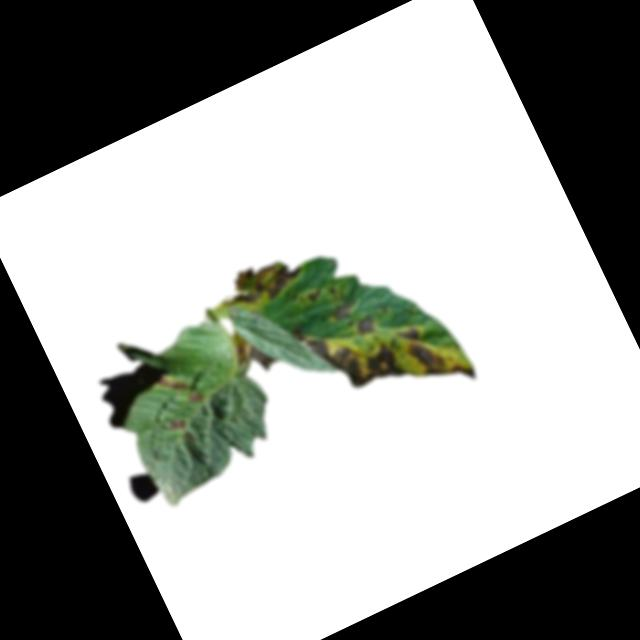Early_blight: (297, 273, 479, 442), (227, 247, 310, 314), (231, 331, 281, 383), (156, 370, 188, 400), (329, 296, 360, 324), (351, 311, 379, 338), (304, 283, 329, 308), (184, 387, 208, 409), (166, 417, 188, 437)
